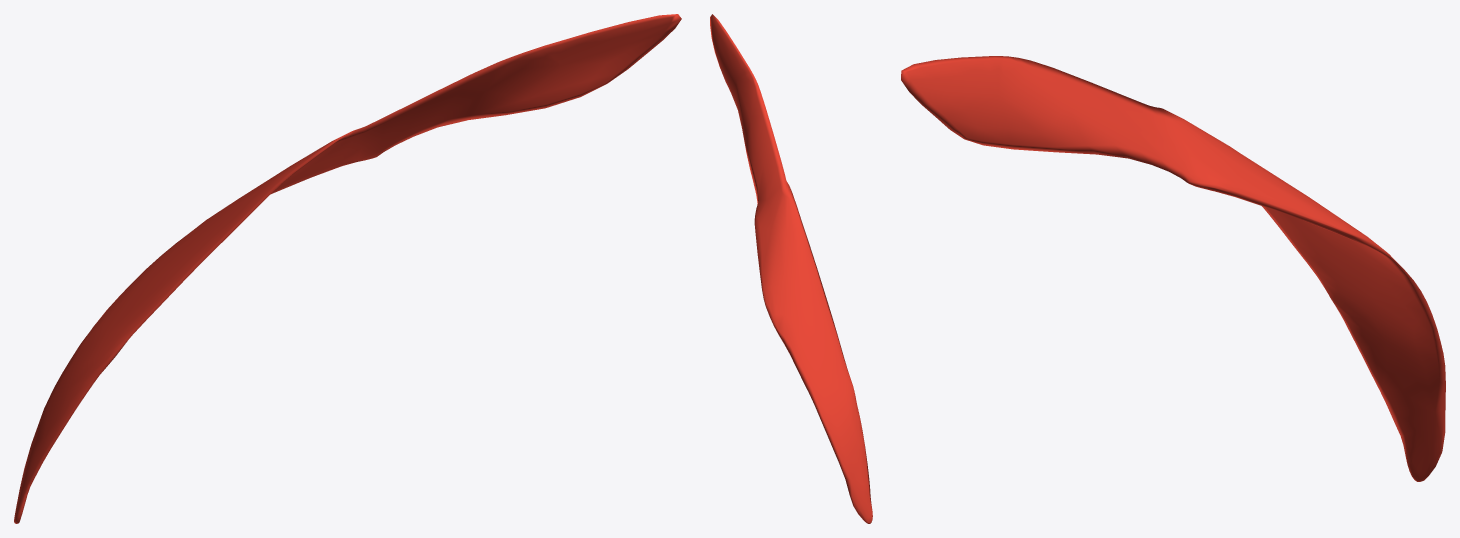
The model's file is Latissimus_dorsi-Iliac_insertion.l_Generated_Mesh_From_X3D.799.glb.
3 views of the same model, side by side, from view 1: azimuth 30°, elevation 25°; view 2: azimuth 150°, elevation 25°; view 3: azimuth 270°, elevation 25° (orthographic). The views are drawn at different scales.
Visible parts, largest first — view 1: Latissimus_dorsi-Iliac_insertion.l_Generated_Mesh_From_X3D.7; view 2: Latissimus_dorsi-Iliac_insertion.l_Generated_Mesh_From_X3D.7; view 3: Latissimus_dorsi-Iliac_insertion.l_Generated_Mesh_From_X3D.7.
Boxes of the visible parts, <box> form: Latissimus_dorsi-Iliac_insertion.l_Generated_Mesh_From_X3D.7: <box>14,14,681,523</box>; Latissimus_dorsi-Iliac_insertion.l_Generated_Mesh_From_X3D.7: <box>710,14,872,523</box>; Latissimus_dorsi-Iliac_insertion.l_Generated_Mesh_From_X3D.7: <box>901,56,1445,481</box>.
Bounding box in the file's own units: 0.0483 × 0.0549 × 0.0393.
